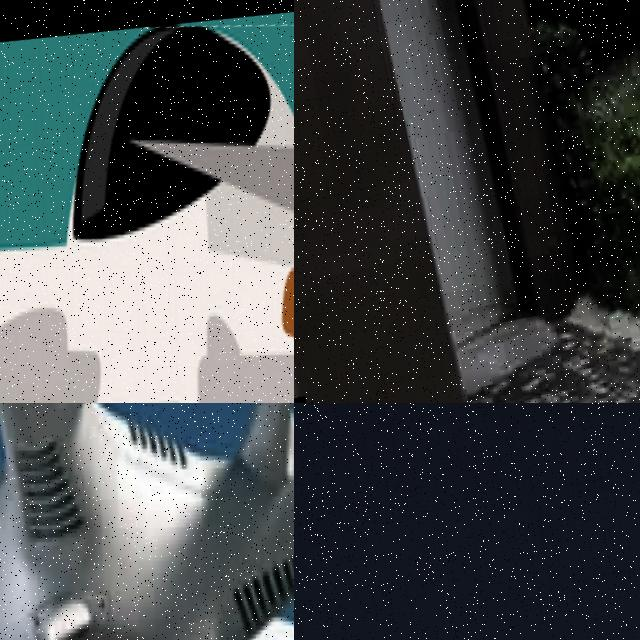drone: (0, 0, 294, 403), (0, 403, 294, 640)
